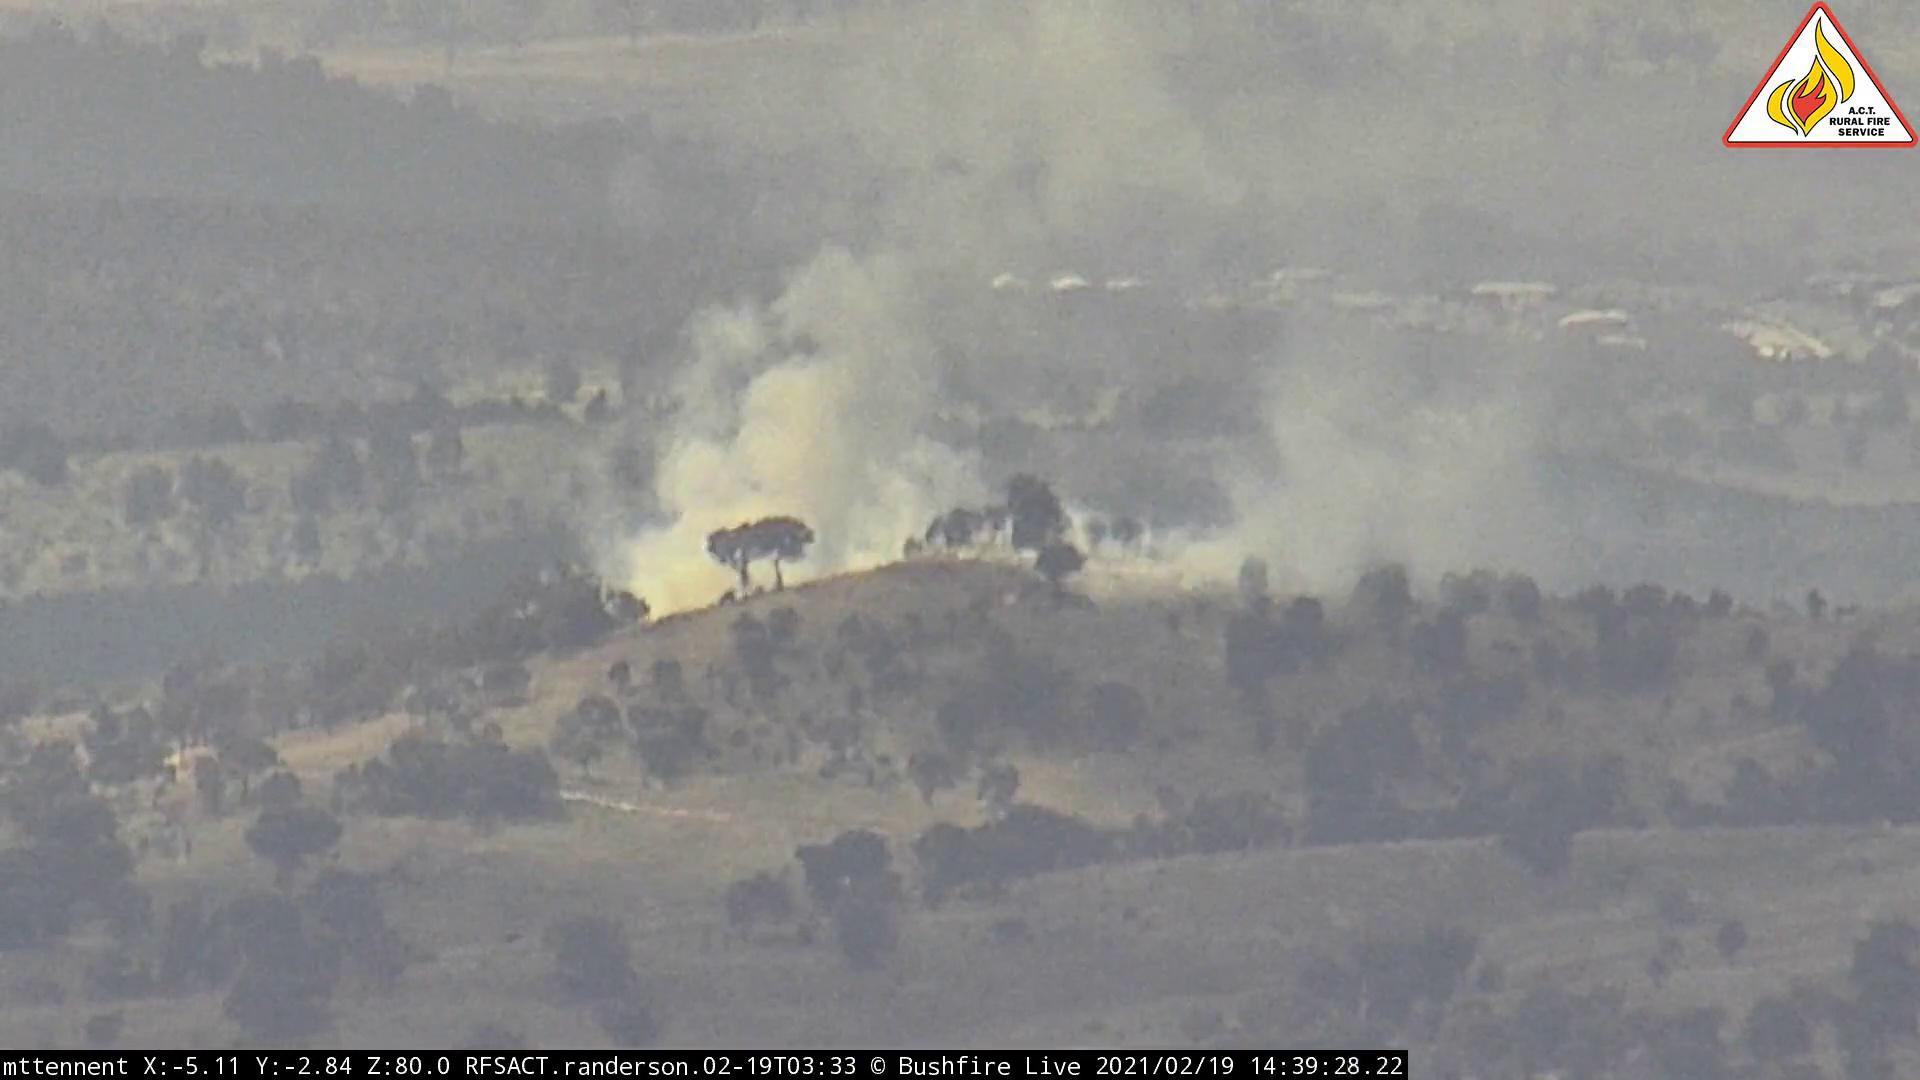instance_salient_object: (596, 82, 1582, 657)
